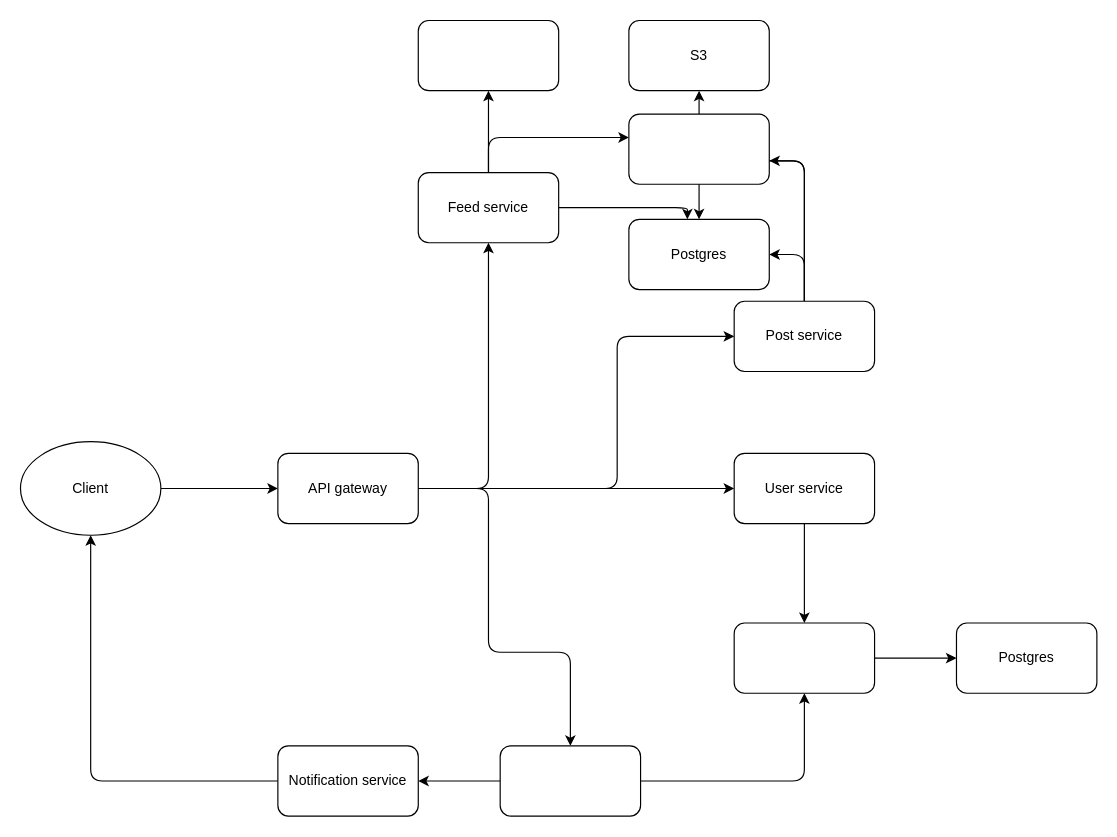
The diagram is 1117 pixels wide and 837 high, and some of its shapes have lost their labels. Each missing label, with the centre of its shape:
Kafka: [804,657]
Media service: [698,148]
Message service: [570,780]
Reddis: [488,55]
